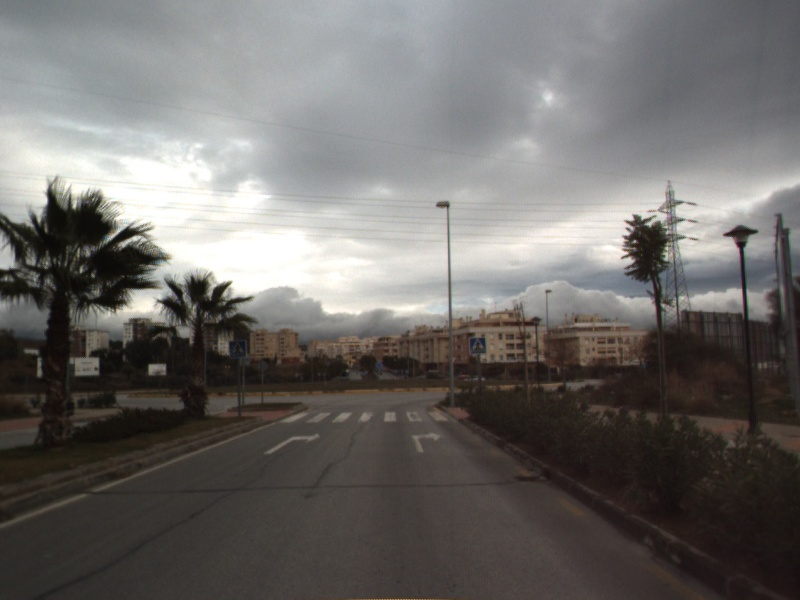RIGHT: (262, 431, 322, 456), (409, 429, 443, 454)
